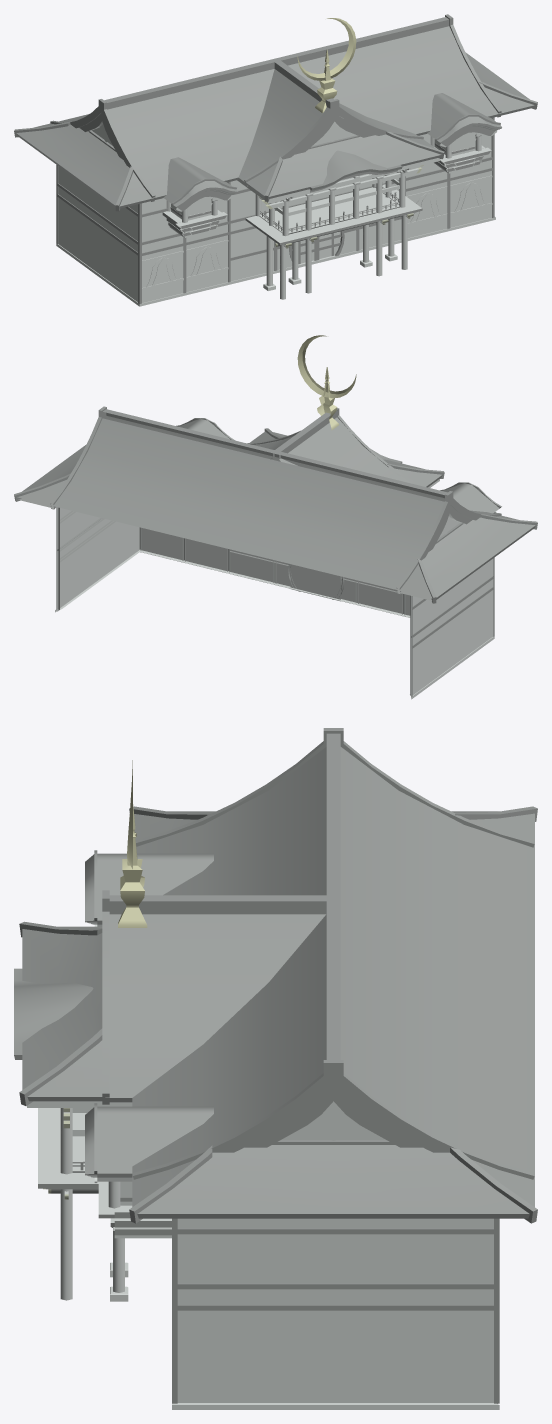
3 views of the same model, one above another, from view 1: azimuth 30°, elevation 25°; view 2: azimuth 150°, elevation 25°; view 3: azimuth 270°, elevation 25° (orthographic). The views are drawn at different scales.
Visible parts, largest first — view 1: G:\FFXIV-MapTools\exports\e3f1\bg\ex2\02_est_e3\fld\e3f1\bgp (×9); view 2: G:\FFXIV-MapTools\exports\e3f1\bg\ex2\02_est_e3\fld\e3f1\bgp (×6); view 3: G:\FFXIV-MapTools\exports\e3f1\bg\ex2\02_est_e3\fld\e3f1\bgp (×8).
Boxes of the visible parts, box(x1,y1,x2,y2) form: G:\FFXIV-MapTools\exports\e3f1\bg\ex2\02_est_e3\fld\e3f1\bgp (×9): box(14, 14, 537, 306); G:\FFXIV-MapTools\exports\e3f1\bg\ex2\02_est_e3\fld\e3f1\bgp (×6): box(14, 335, 537, 699); G:\FFXIV-MapTools\exports\e3f1\bg\ex2\02_est_e3\fld\e3f1\bgp (×8): box(14, 728, 537, 1409).
Bounding box in the file's own units: 101 × 57.52 × 55.06.
